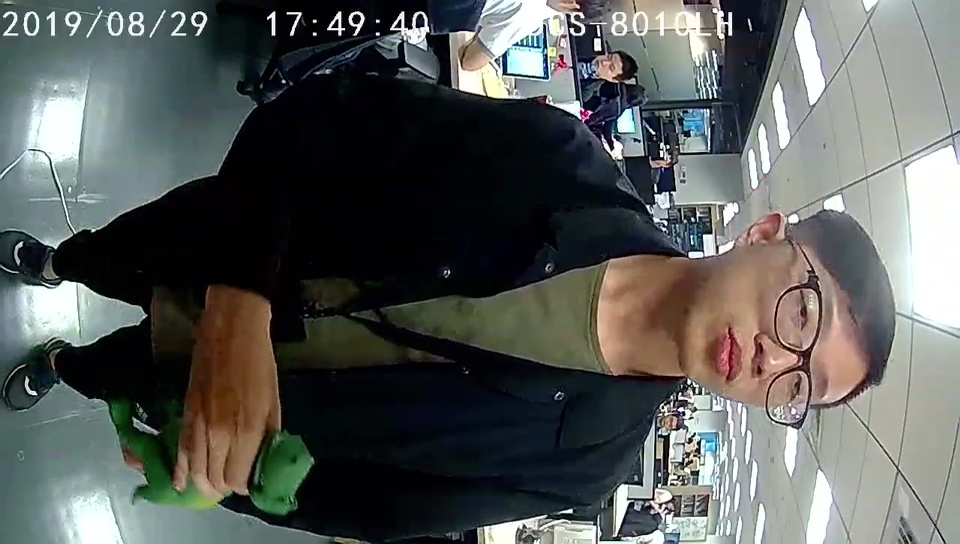rex: (105, 395, 318, 516)
